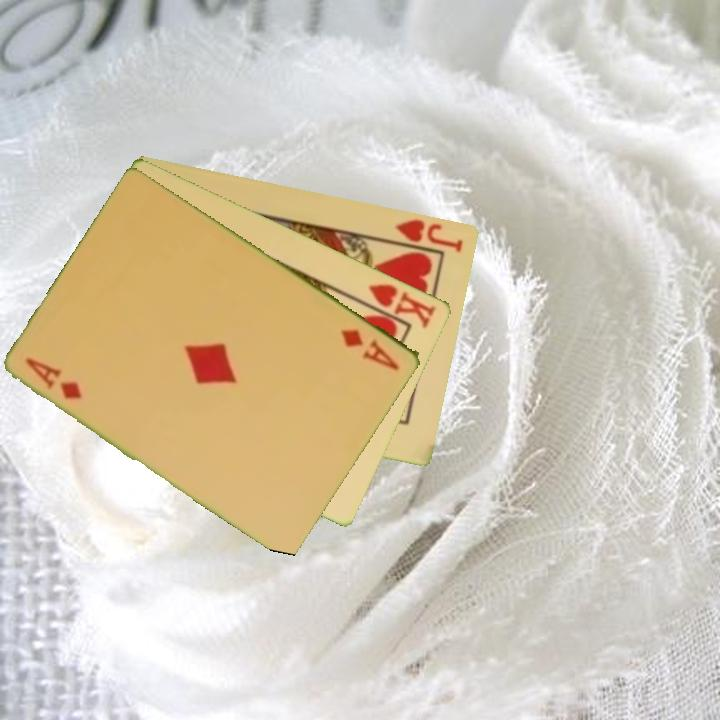Ad: (338, 325, 403, 374), (22, 354, 86, 403)
Jh: (382, 215, 467, 257)
Kh: (354, 280, 439, 332)
